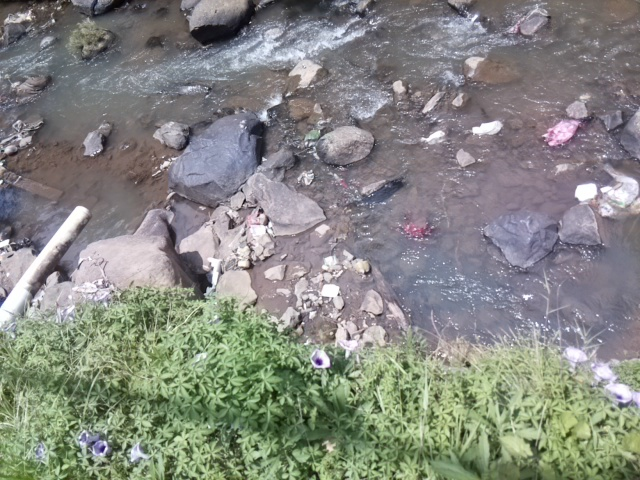Sampah_Plastik: (603, 168, 636, 217), (544, 120, 585, 150), (405, 220, 435, 239), (246, 214, 261, 224)
Sampah_Styrofoam: (572, 182, 599, 201), (470, 120, 498, 138), (320, 283, 339, 296)
